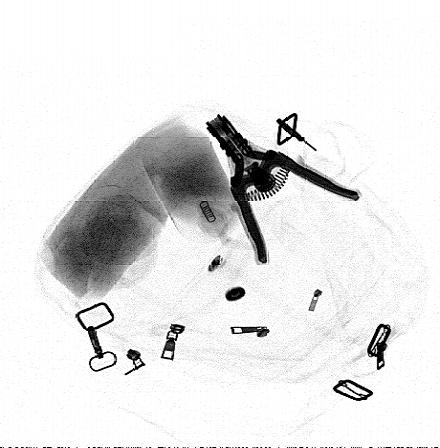Pliers: (202, 111, 363, 264)
